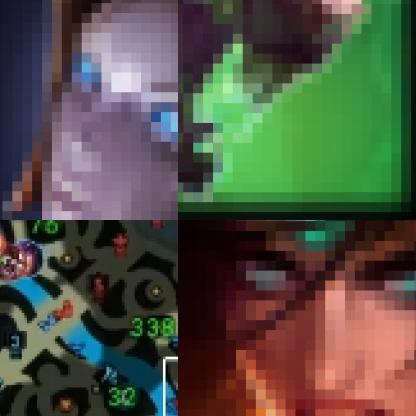Gangplank: (0, 224, 8, 265)
Kled: (0, 245, 28, 281)
Orianna: (0, 0, 177, 219)
Sivir: (178, 220, 415, 415)
Syndra: (8, 238, 44, 276)
Twitch: (178, 0, 415, 219)
